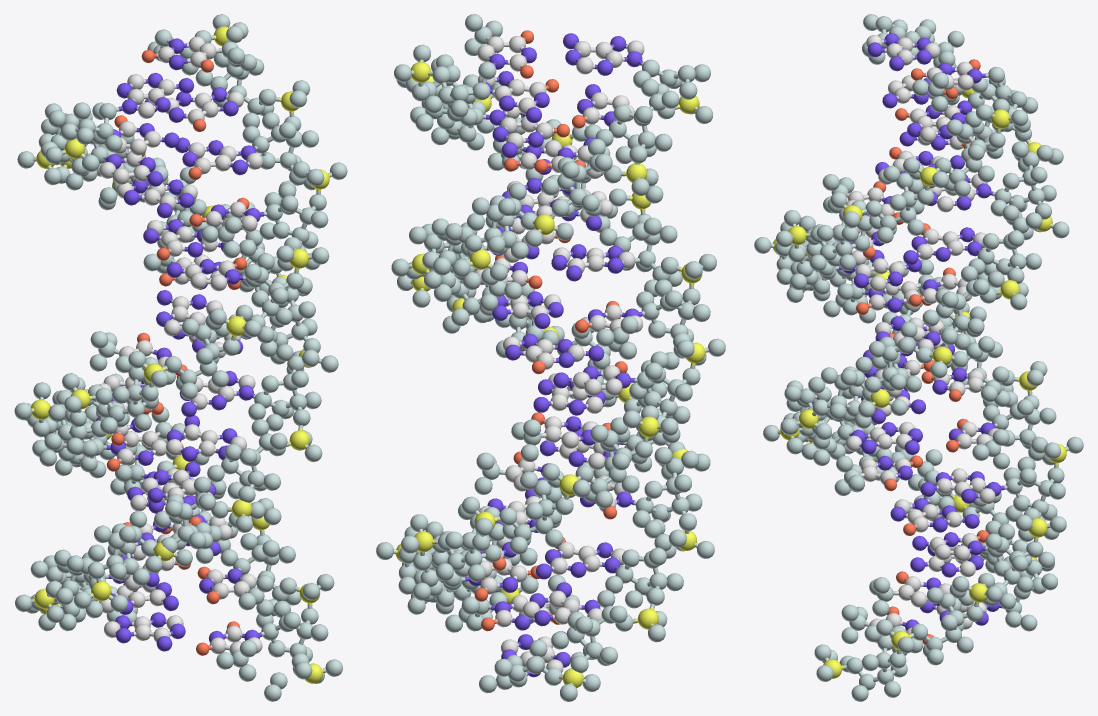
File: DNA Structure.fbx
The picture shows the model from 3 angles, left to right: view 1: azimuth 30°, elevation 25°; view 2: azimuth 150°, elevation 25°; view 3: azimuth 270°, elevation 25°; orthographic projection. The views are drawn at different scales.
Parts seen in each view (by area): view 1: 865, 951, 304, 801, 337; view 2: 865, 951, 304, 801, 337; view 3: 865, 951, 304, 801, 337.
Boxes of the visible parts, x1=… form: 865: x1=14, y1=14, x2=347, y2=701; 951: x1=96, y1=36, x2=263, y2=654; 304: x1=96, y1=38, x2=264, y2=651; 801: x1=31, y1=26, x2=329, y2=683; 337: x1=106, y1=49, x2=249, y2=655; 865: x1=376, y1=14, x2=725, y2=701; 951: x1=461, y1=36, x2=644, y2=672; 304: x1=465, y1=33, x2=643, y2=677; 801: x1=395, y1=61, x2=706, y2=688; 337: x1=474, y1=30, x2=627, y2=631; 865: x1=754, y1=14, x2=1083, y2=701; 951: x1=832, y1=35, x2=998, y2=642; 304: x1=838, y1=33, x2=1004, y2=630; 801: x1=773, y1=88, x2=1066, y2=678; 337: x1=856, y1=59, x2=989, y2=644.
Bounding box in the file's own units: 2245 × 4700 × 2302.
